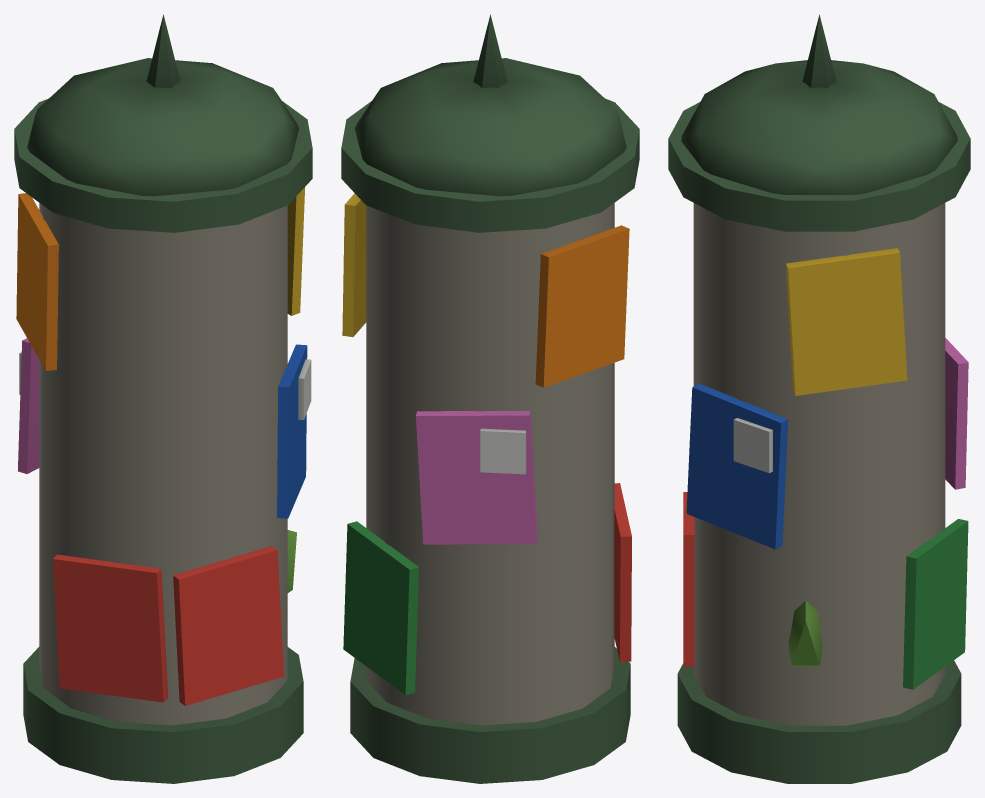
File: p_st_litfass.glb
3 views of the same model, side by side, from view 1: azimuth 30°, elevation 25°; view 2: azimuth 150°, elevation 25°; view 3: azimuth 270°, elevation 25° (orthographic).
Parts seen in each view (by area): view 1: body; view 2: body; view 3: body.
Part boxes in pixels (x1,y1,x2,y2): body: (14,14,312,783); body: (341,14,639,783); body: (668,14,970,783).
Size of the model in its own units: 1.29 by 3.43 by 1.32.
